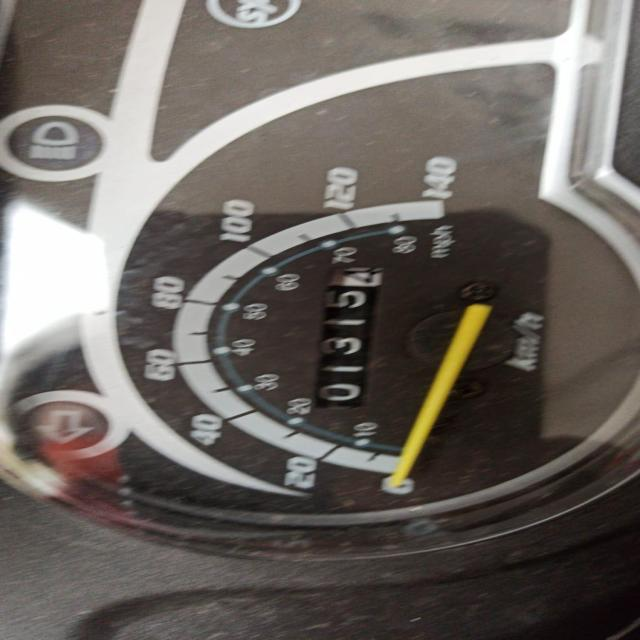odometer: (311, 263, 385, 411)
